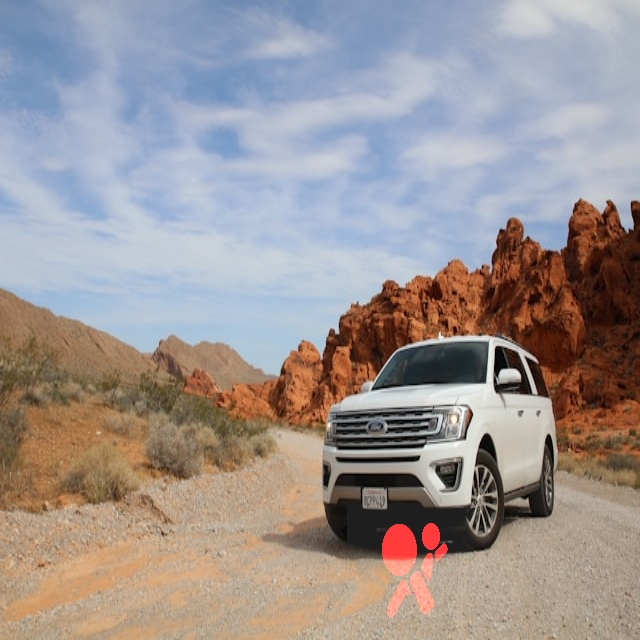symbol: (347, 504, 474, 631)
